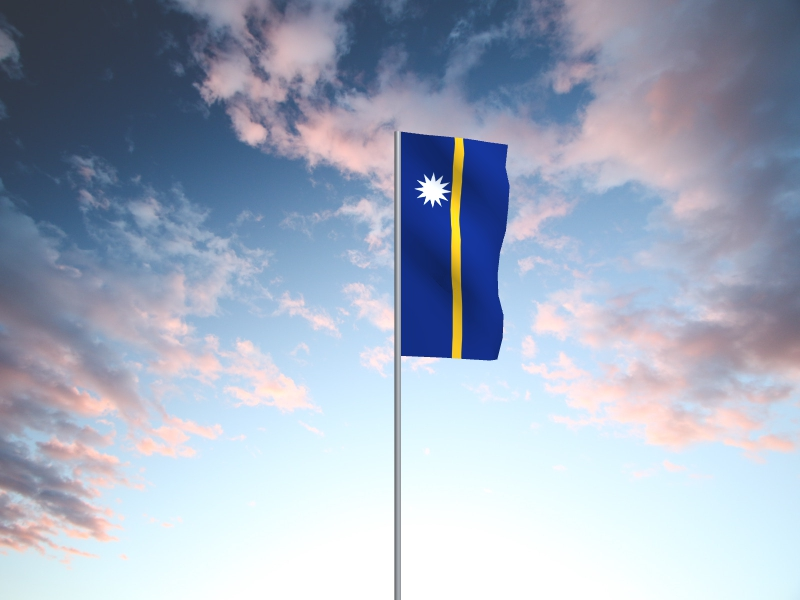nr: (402, 133, 512, 361)
